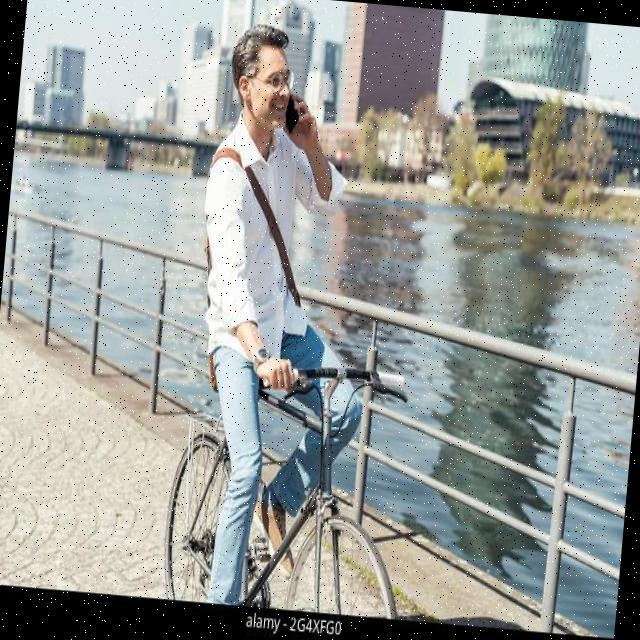No helmet: (218, 18, 304, 133)
Using mobile: (187, 23, 377, 234)
